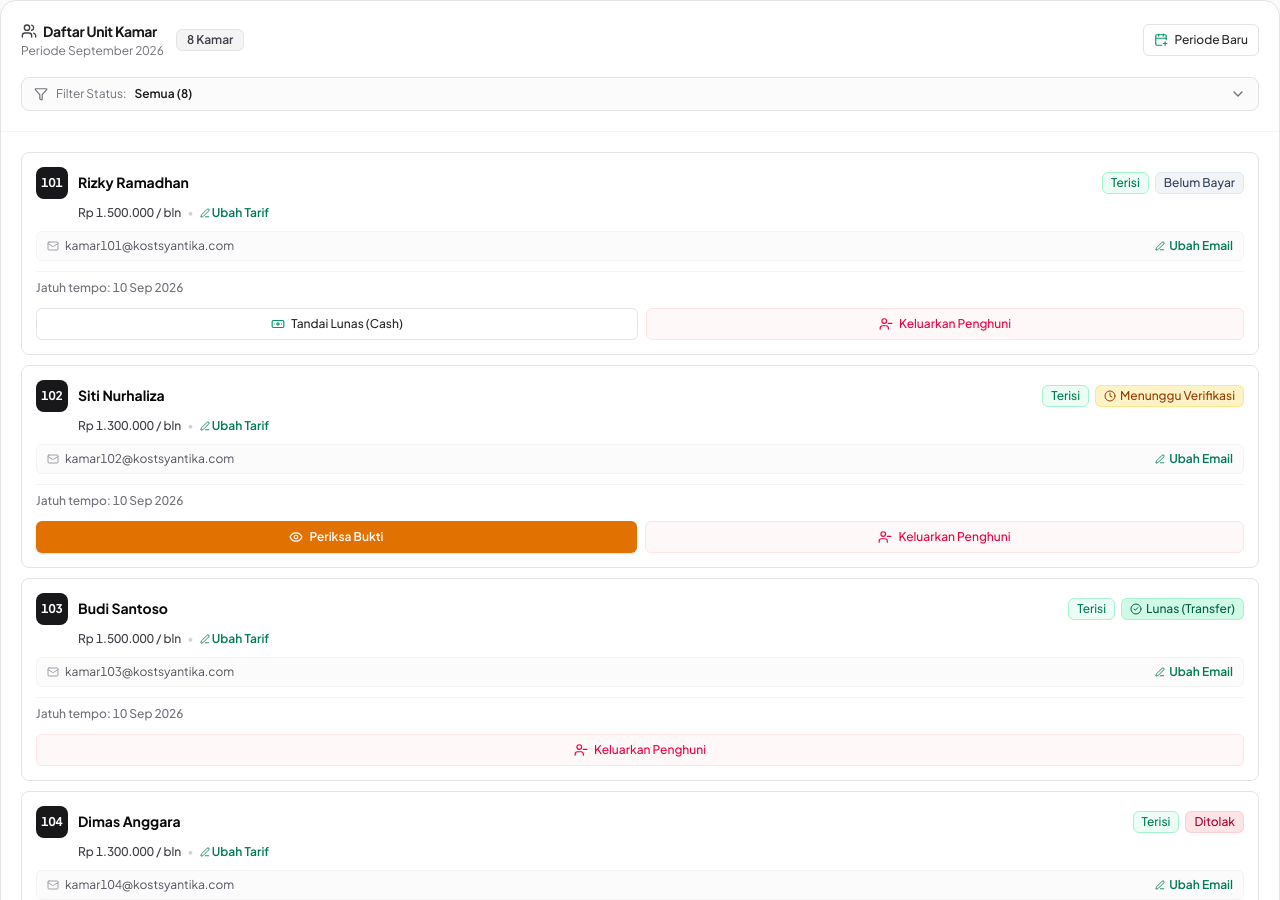
Test: PemilikManajemenKamar Integration (Issue 03) › 3. Alur Keluarkan Penghuni dengan mempertahankan tagihan aktif sebagai arsip tunggakan
Click the button with aria-label "Keluarkan Penghuni Kamar 101" at point(945, 324), box x1=646 y1=308 x2=1244 y2=340
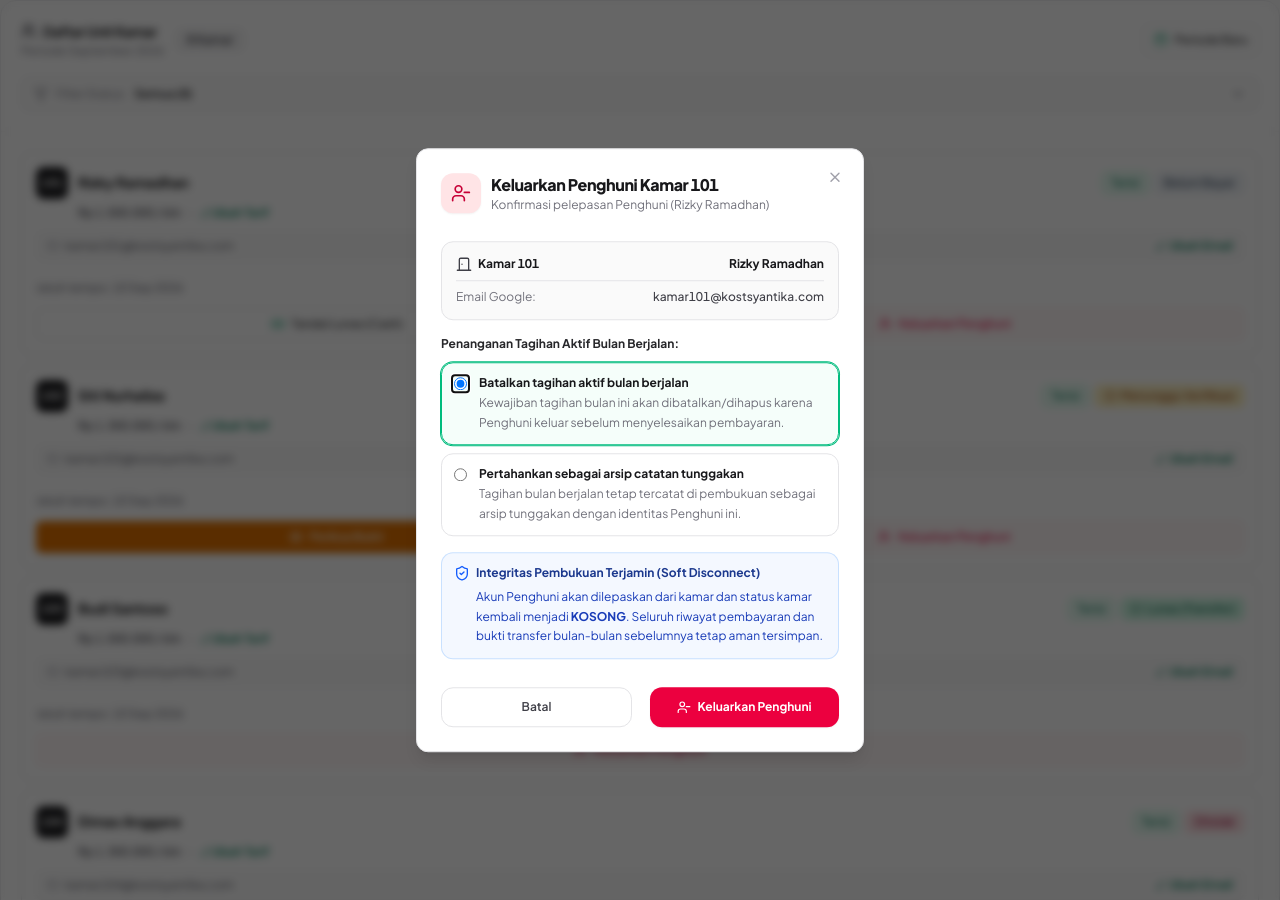
Click the radio button labelled "Pertahankan sebagai arsip catatan tunggakan" at point(460, 475), box x1=454 y1=468 x2=467 y2=481
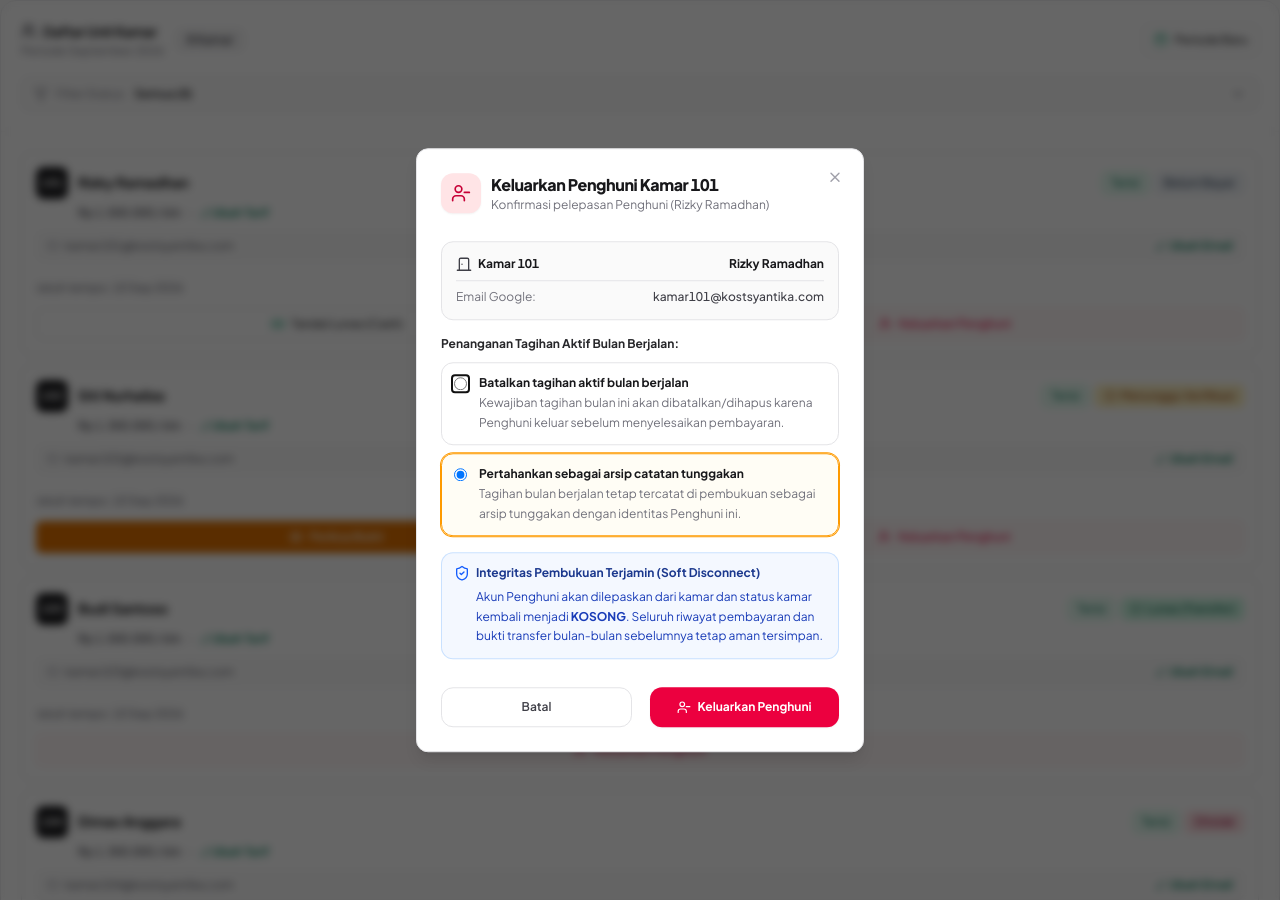
expect the radio button labelled "Pertahankan sebagai arsip catatan tunggakan" is checked: met, box x1=454 y1=468 x2=467 y2=481
Click the button "Keluarkan Penghuni" at point(744, 707), box x1=650 y1=687 x2=839 y2=727
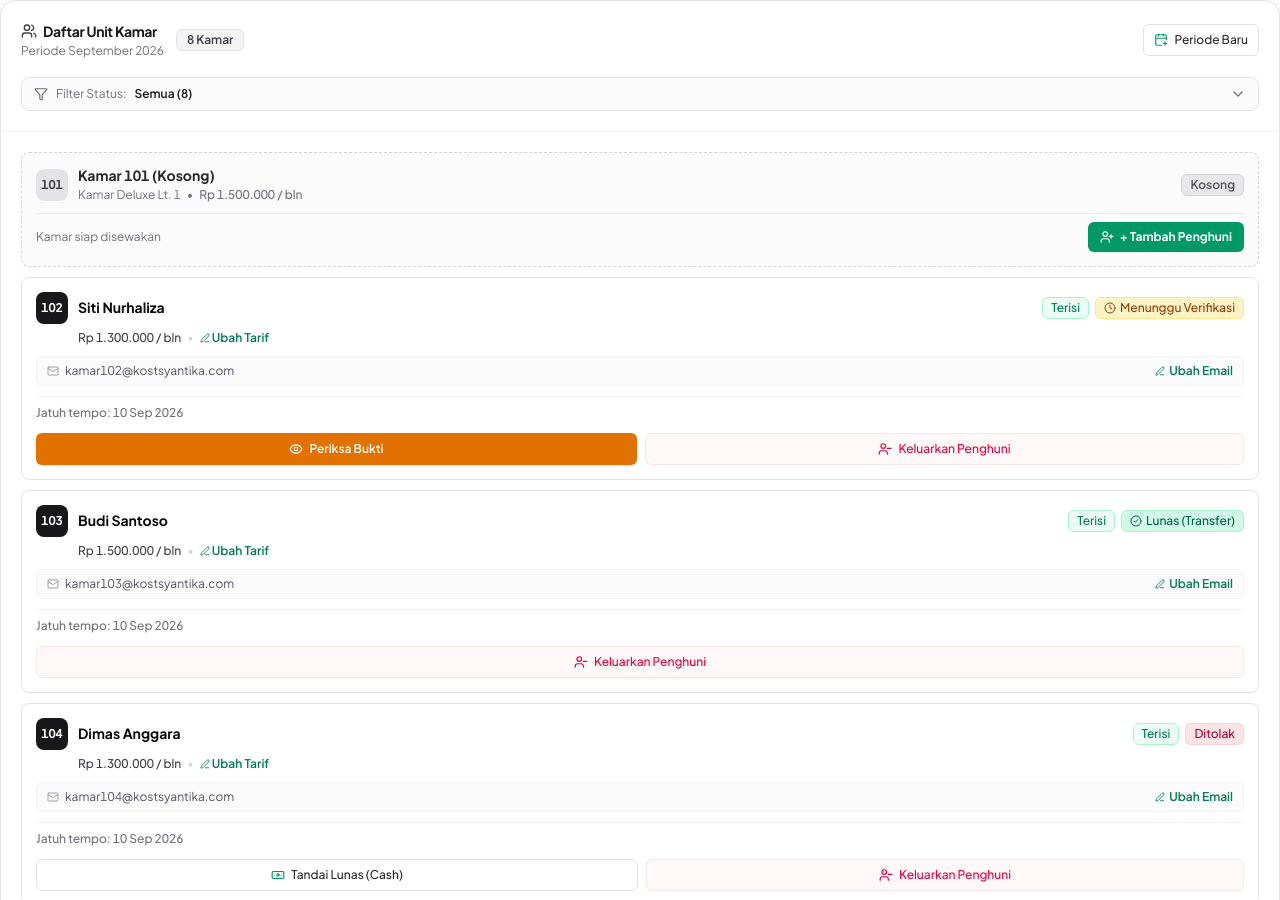
expect the text "Kamar 101 (Kosong)" is shown: met, box x1=78 y1=166 x2=215 y2=184
